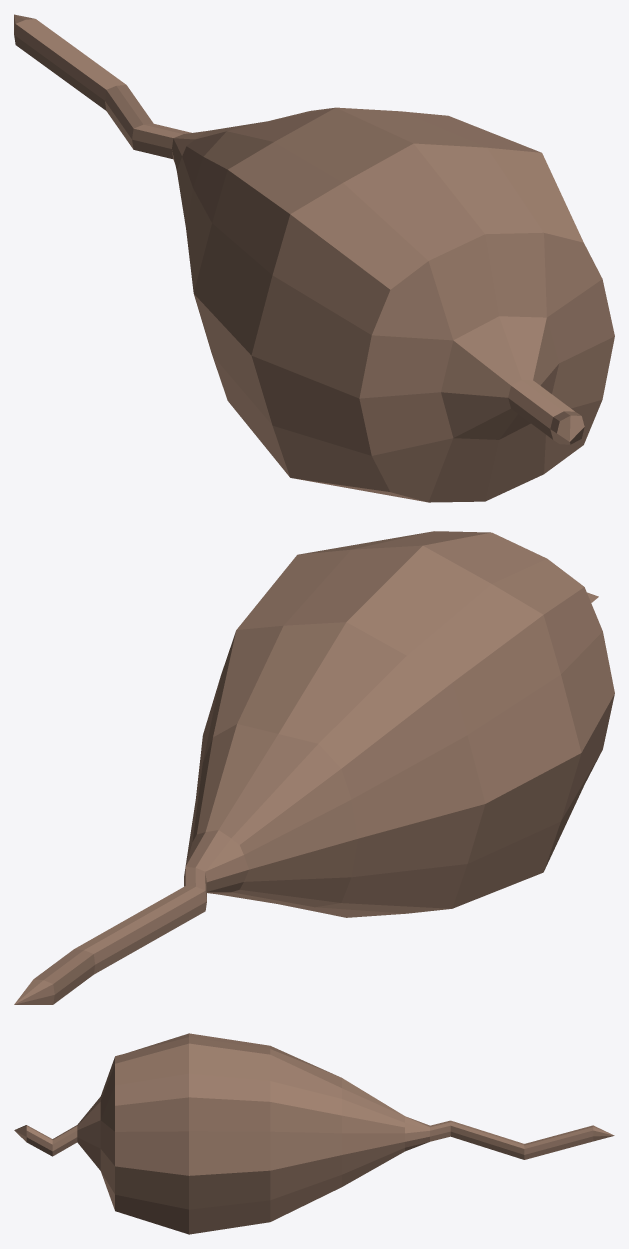
The picture shows the model from 3 angles, top to bottom: view 1: azimuth 30°, elevation 25°; view 2: azimuth 150°, elevation 25°; view 3: azimuth 270°, elevation 25°; orthographic projection. The views are drawn at different scales.
Visible parts, largest first — view 1: Cube; view 2: Cube; view 3: Cube.
Boxes of the visible parts, left/top/right/bottom form: Cube: left=14, top=14, right=614, bottom=502; Cube: left=14, top=531, right=614, bottom=1004; Cube: left=14, top=1033, right=614, bottom=1234.
Size of the model in its own units: 279 by 279 by 845.
